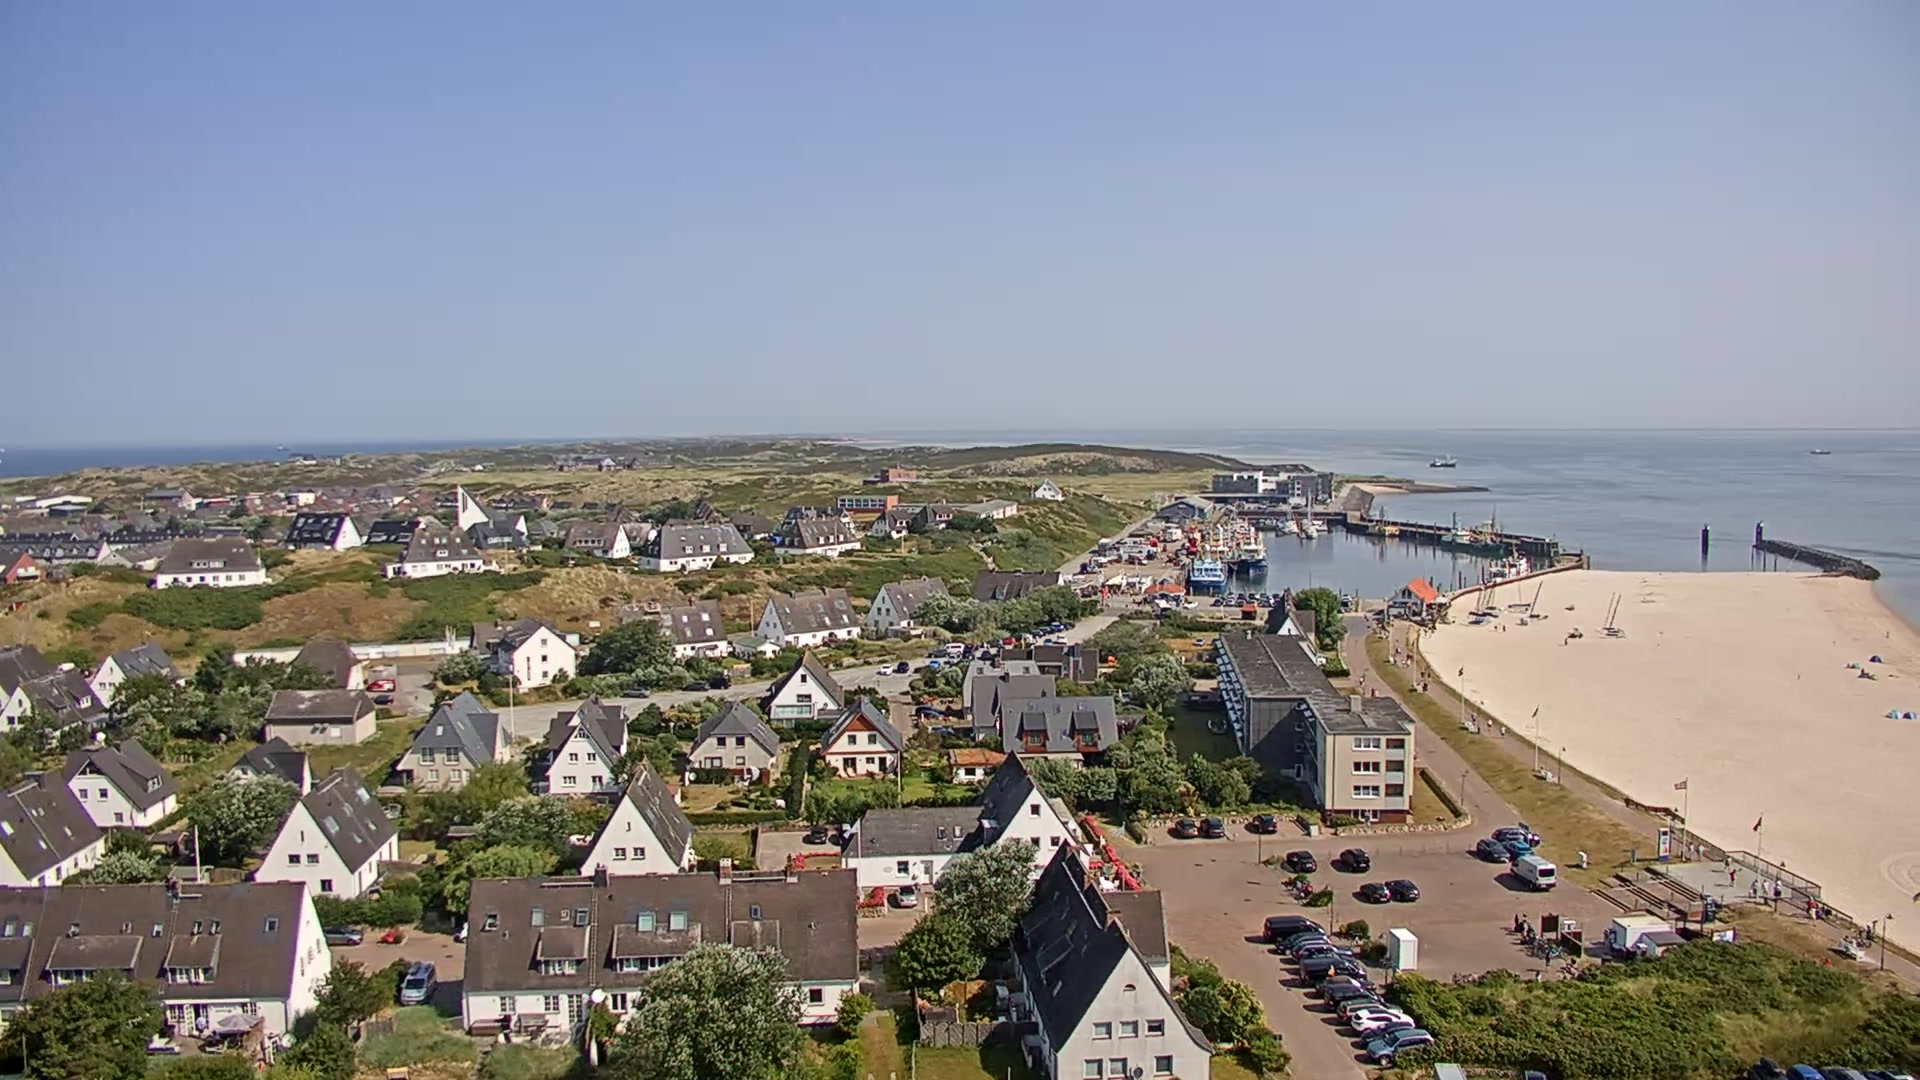human: (1521, 914, 1529, 940), (1773, 876, 1782, 899), (1751, 877, 1760, 897), (1809, 905, 1817, 926), (1729, 867, 1737, 886), (1761, 878, 1769, 897), (1544, 950, 1551, 970), (1512, 912, 1520, 930), (1724, 855, 1731, 871), (1697, 842, 1705, 860), (1688, 840, 1695, 859), (1805, 895, 1812, 913), (1864, 923, 1871, 939), (1486, 717, 1493, 731), (1425, 669, 1432, 682), (1419, 668, 1426, 681), (1500, 724, 1506, 737), (1820, 904, 1825, 915)
land: (1365, 1025, 1435, 1067), (1297, 954, 1366, 987), (1263, 912, 1326, 941), (1349, 1005, 1415, 1033), (398, 961, 437, 1007), (1510, 854, 1557, 890), (1291, 939, 1355, 964), (1273, 930, 1334, 955), (1359, 1021, 1415, 1048), (1336, 1000, 1403, 1022), (1323, 982, 1374, 1010), (1315, 974, 1370, 997), (1489, 825, 1540, 846), (1746, 1057, 1793, 1079), (321, 924, 364, 946), (1474, 835, 1509, 861), (1339, 847, 1371, 873), (1359, 881, 1391, 905), (1385, 879, 1420, 901), (1819, 1063, 1868, 1078), (1499, 838, 1533, 859), (1286, 849, 1318, 872), (1866, 1063, 1915, 1078), (1787, 1061, 1828, 1079), (894, 884, 919, 907), (1199, 817, 1226, 838), (1251, 813, 1278, 833), (1174, 817, 1199, 837), (365, 678, 396, 692), (620, 684, 651, 698), (836, 823, 854, 844), (808, 825, 827, 845), (914, 706, 942, 718), (1582, 937, 1599, 956), (681, 680, 710, 691), (370, 694, 395, 706), (1128, 553, 1149, 566), (457, 921, 469, 943), (943, 641, 963, 654), (927, 648, 950, 658), (878, 661, 894, 675), (983, 637, 1002, 647), (1097, 538, 1113, 550), (896, 661, 910, 673), (999, 635, 1017, 645), (1050, 621, 1064, 632), (927, 659, 942, 670), (1183, 600, 1199, 609), (980, 649, 991, 659), (1062, 620, 1075, 629), (1038, 625, 1052, 633), (1031, 628, 1043, 637), (963, 650, 974, 660), (1021, 632, 1034, 640), (1270, 599, 1280, 608), (1213, 598, 1222, 606), (1224, 598, 1234, 605), (1259, 599, 1270, 607), (1226, 590, 1235, 598), (1235, 599, 1244, 606), (1057, 634, 1068, 640), (1260, 592, 1269, 598), (1271, 592, 1279, 598), (1248, 592, 1256, 598), (1249, 600, 1257, 605), (1238, 592, 1245, 598), (1044, 637, 1052, 640)
sea: (1439, 503, 1503, 557), (1483, 534, 1532, 582), (1235, 524, 1265, 575), (1187, 555, 1228, 587), (1363, 503, 1401, 536), (1602, 590, 1626, 638), (1524, 578, 1548, 618), (1507, 578, 1532, 608), (1468, 582, 1488, 617), (1304, 489, 1318, 540), (1281, 506, 1300, 536), (1483, 575, 1499, 611), (1428, 453, 1459, 468), (1302, 517, 1328, 532), (1809, 447, 1831, 455)
